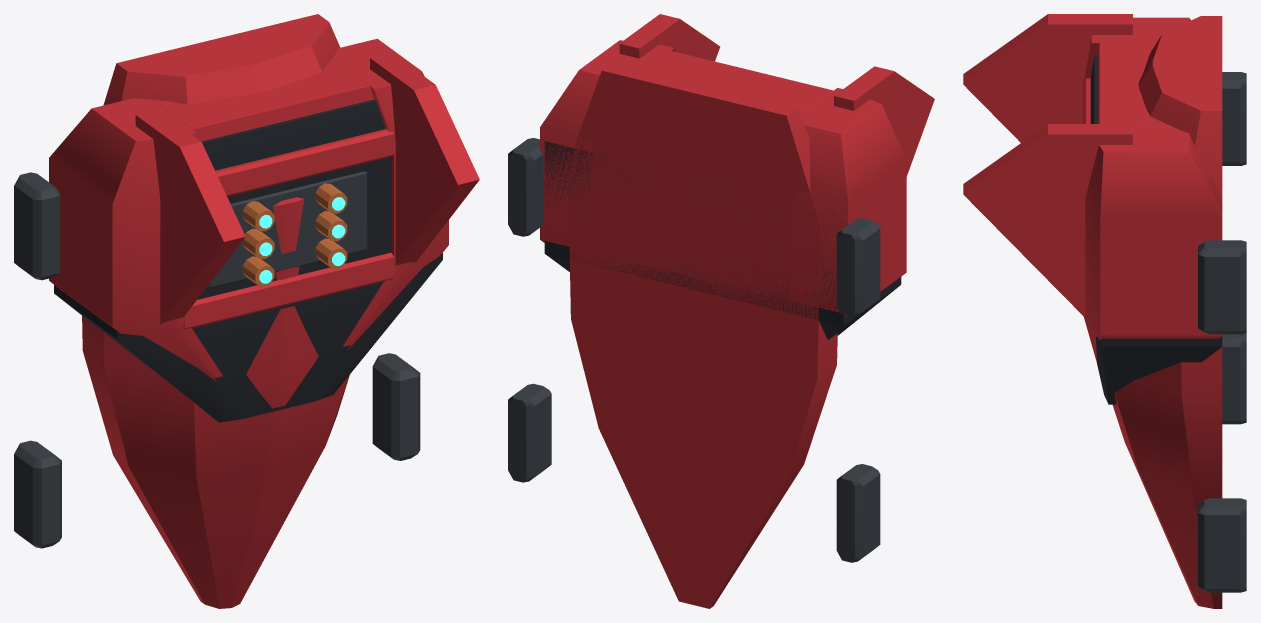
File: ThighBack_Set06_Voltaic.fbx
3 views of the same model, side by side, from view 1: azimuth 30°, elevation 25°; view 2: azimuth 150°, elevation 25°; view 3: azimuth 270°, elevation 25° (orthographic). The views are drawn at different scales.
Parts seen in each view (by area): view 1: ThighBack_Set06_Voltaic; view 2: ThighBack_Set06_Voltaic; view 3: ThighBack_Set06_Voltaic.
Part boxes in pixels (bbox=[...]): ThighBack_Set06_Voltaic: bbox=[14, 14, 479, 608]; ThighBack_Set06_Voltaic: bbox=[508, 14, 934, 608]; ThighBack_Set06_Voltaic: bbox=[963, 14, 1246, 608].
Size of the model in its own units: 0.53 by 0.73 by 0.3489.
